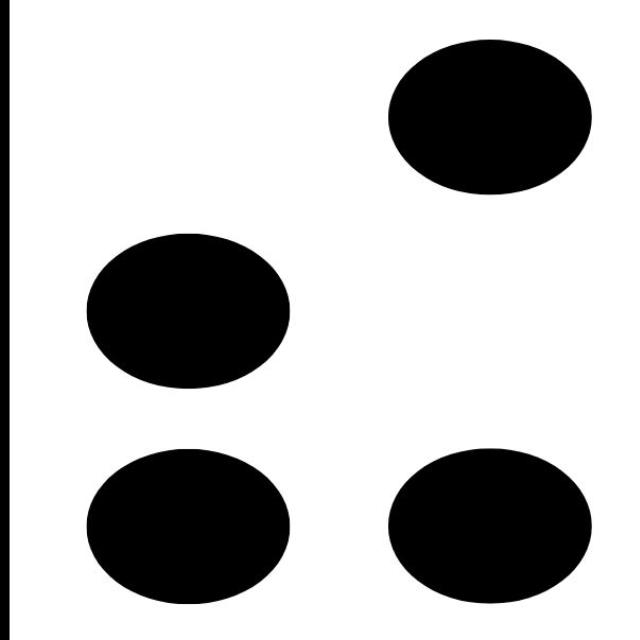ang: (86, 39, 593, 606)
